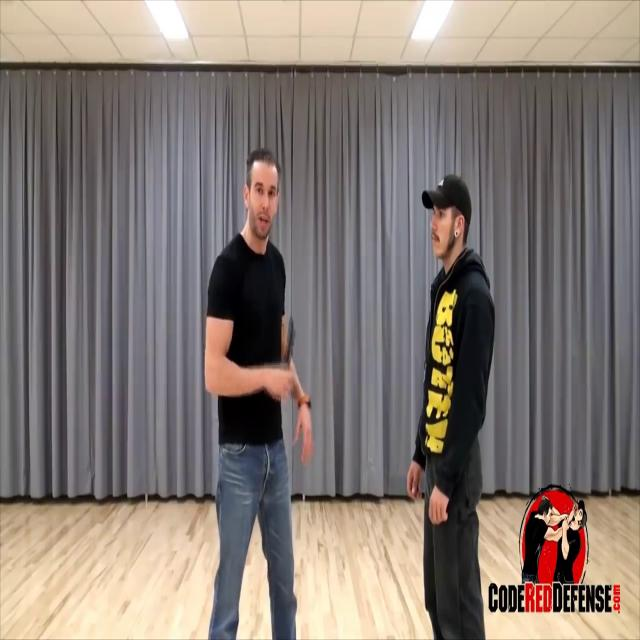Knife_Handle: (265, 316, 295, 400)
